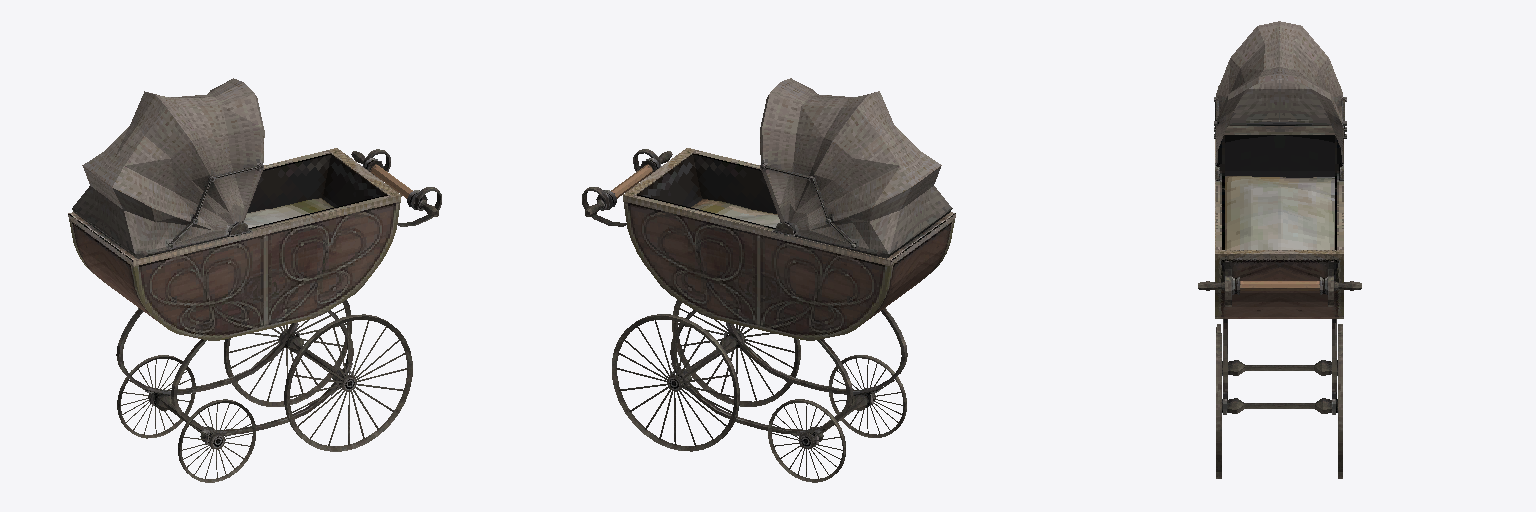
3 views of the same model, side by side, from view 1: azimuth 30°, elevation 25°; view 2: azimuth 150°, elevation 25°; view 3: azimuth 270°, elevation 25° (orthographic).
Parts seen in each view (by area): view 1: Baby_Stroller; view 2: Baby_Stroller; view 3: Baby_Stroller.
Boxes of the visible parts, box(x1,y1,x2,y2) form: Baby_Stroller: box(68, 78, 441, 482); Baby_Stroller: box(582, 78, 955, 482); Baby_Stroller: box(1198, 21, 1361, 478).
Size of the model in its own units: 154 by 172 by 68.91.
Materials: 1 (1 with a texture image).